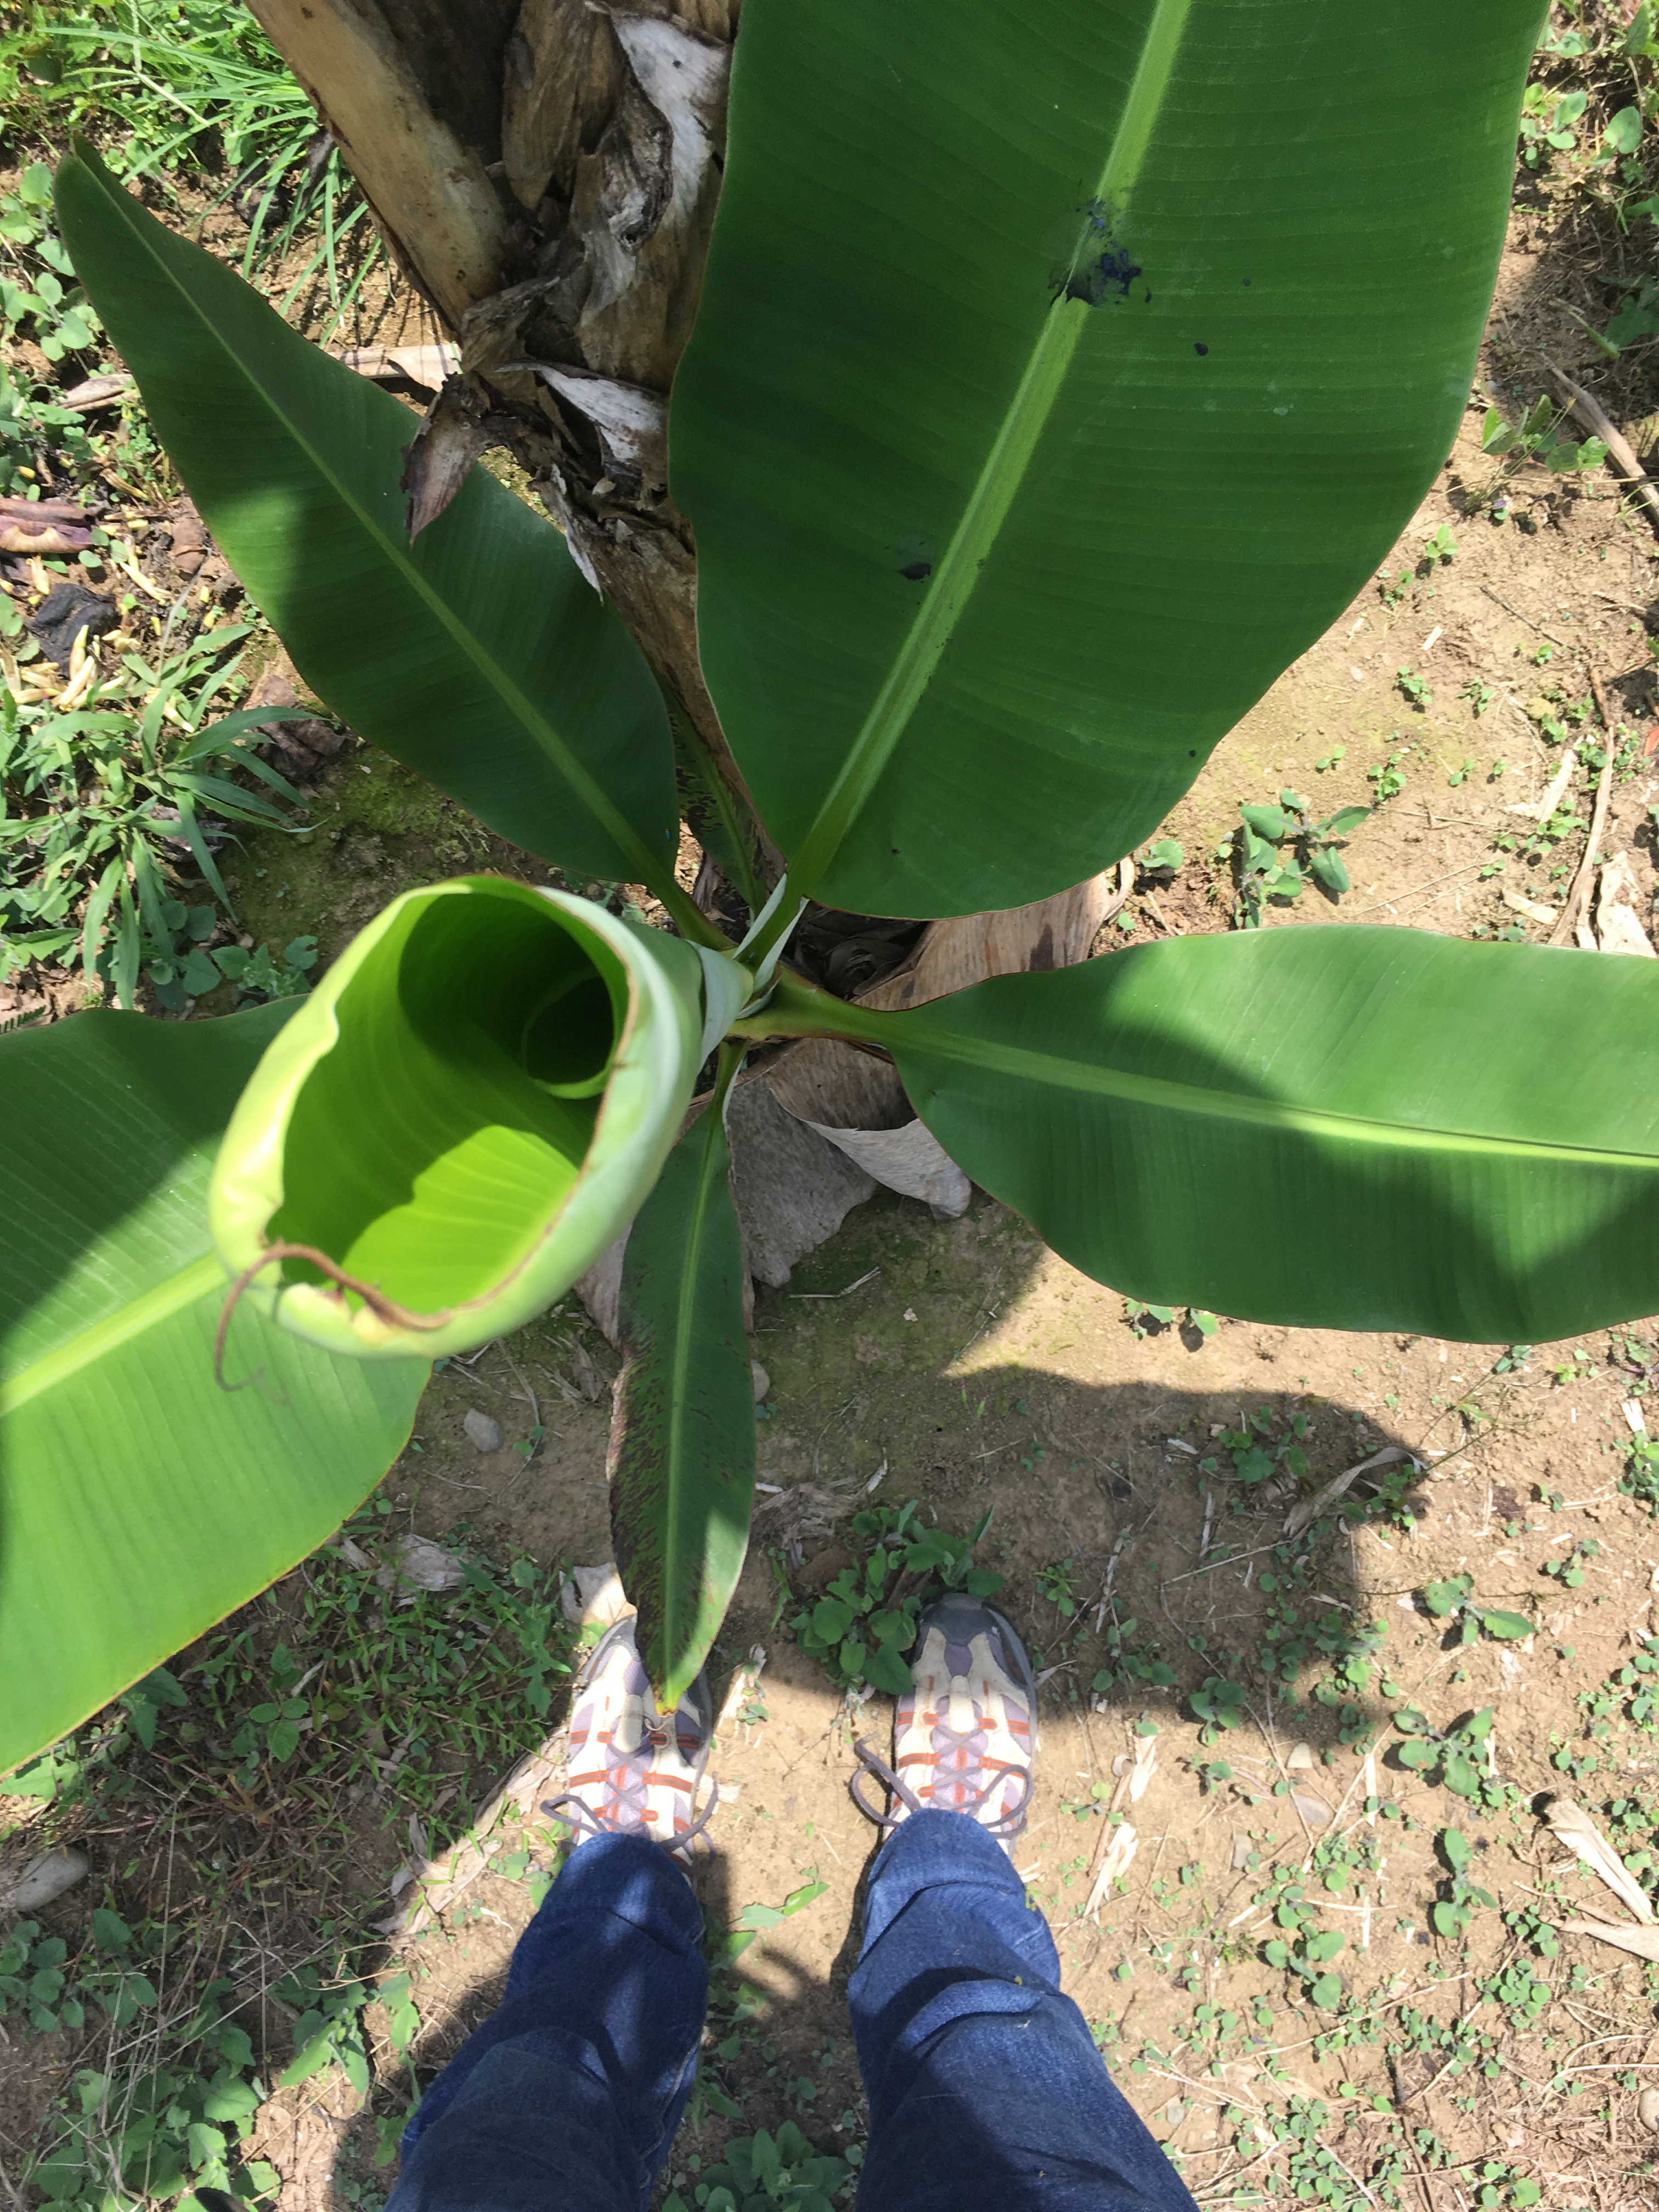candleleafs: (192, 860, 751, 1372)
